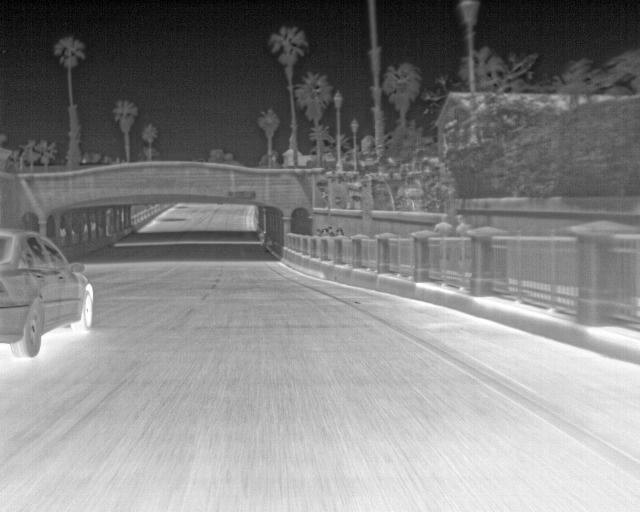bicycle: (1, 227, 96, 356)
